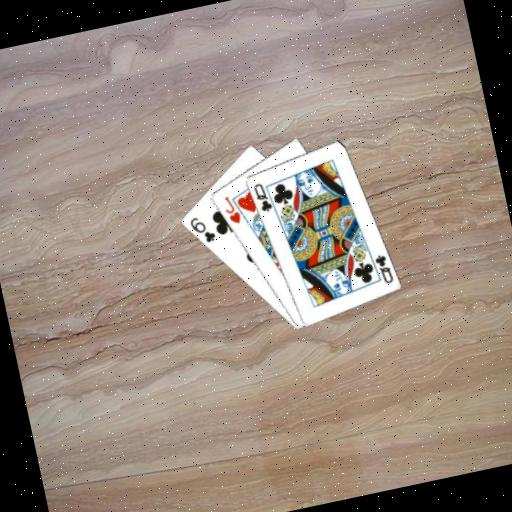6C: (185, 211, 218, 248)
JH: (218, 191, 243, 228)
QC: (250, 178, 275, 215), (370, 249, 395, 286)
